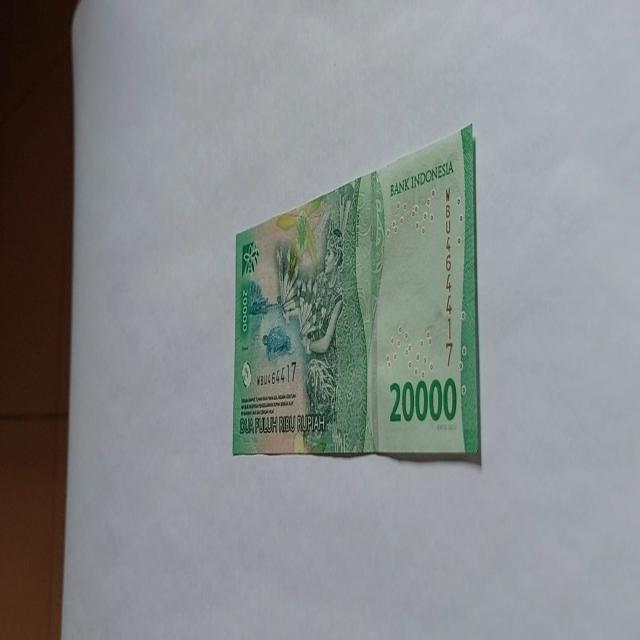dua puluh ribu rupiah: (232, 122, 482, 465)
